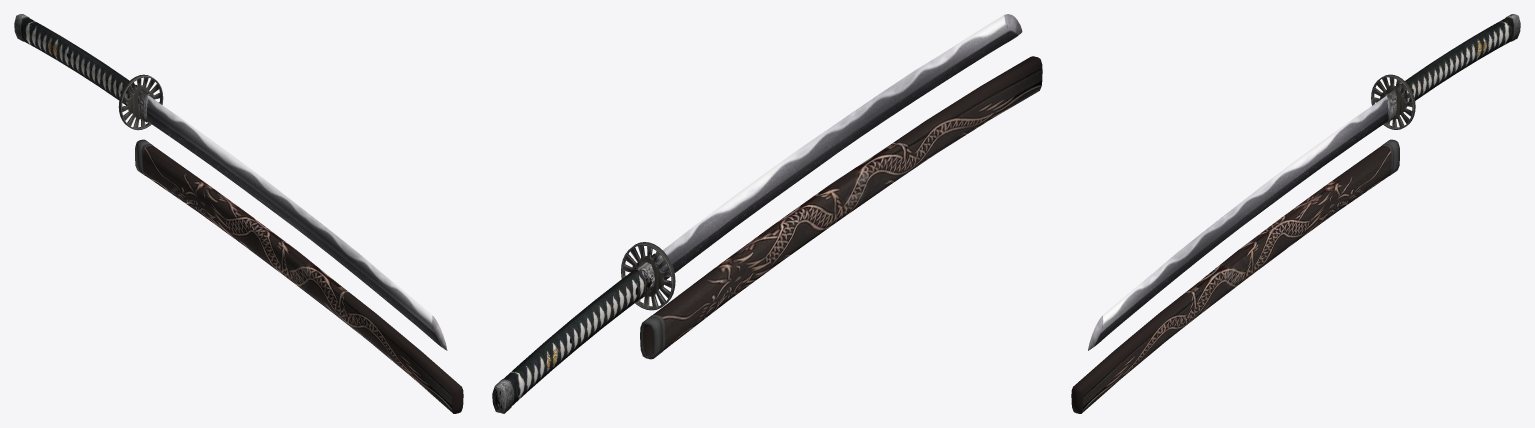
3 views of the same model, side by side, from view 1: azimuth 30°, elevation 25°; view 2: azimuth 150°, elevation 25°; view 3: azimuth 330°, elevation 25° (orthographic). The views are drawn at different scales.
Parts seen in each view (by area): view 1: Saya_mat-material, Blade_mat-material, Tsuka_mat-material, Tsuba_mat-material; view 2: Saya_mat-material, Blade_mat-material, Tsuka_mat-material, Tsuba_mat-material; view 3: Saya_mat-material, Blade_mat-material, Tsuka_mat-material, Tsuba_mat-material.
Boxes of the visible parts, x1,y1,x2,y2 form: Saya_mat-material: [135, 139, 463, 413]; Blade_mat-material: [147, 95, 447, 350]; Tsuka_mat-material: [14, 14, 137, 105]; Tsuba_mat-material: [118, 74, 163, 130]; Saya_mat-material: [640, 56, 1042, 359]; Blade_mat-material: [659, 14, 1022, 279]; Tsuka_mat-material: [492, 262, 654, 413]; Tsuba_mat-material: [621, 242, 675, 310]; Saya_mat-material: [1071, 139, 1399, 413]; Blade_mat-material: [1088, 95, 1388, 350]; Tsuka_mat-material: [1399, 14, 1520, 106]; Tsuba_mat-material: [1371, 74, 1415, 129].
Size of the model in its own units: 0.4926 by 1.19 by 8.85.
5 materials, 5 textured.
